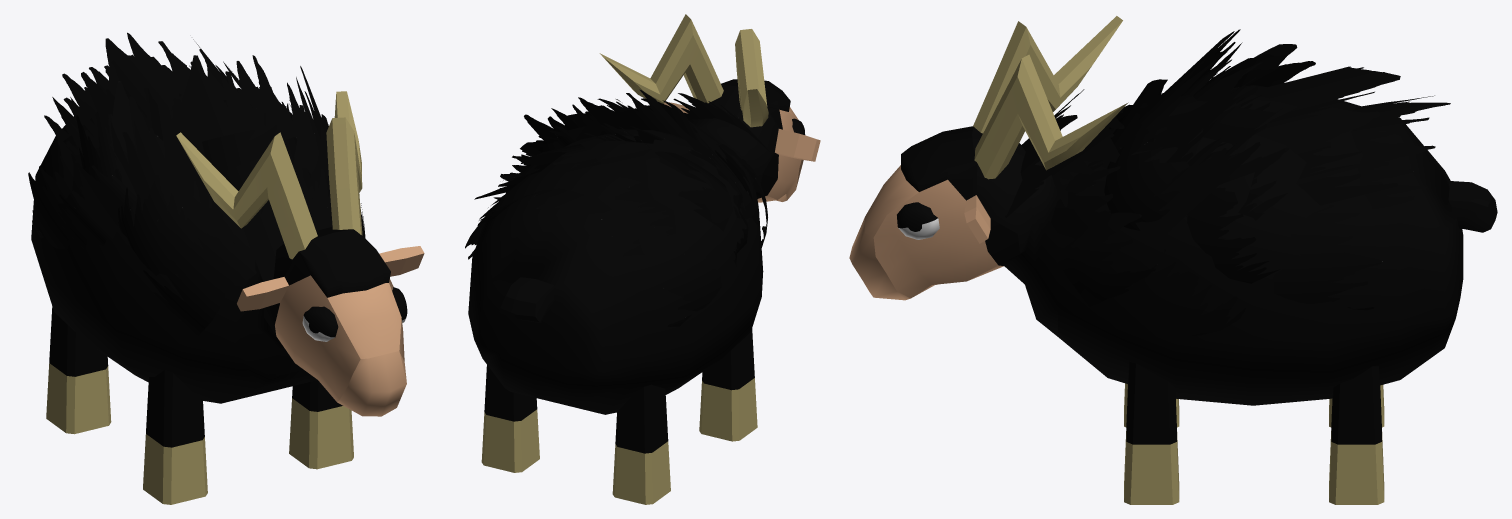
Rendered from Horned_Sheep_Enemy.fbx.
The picture shows the model from 3 angles, left to right: view 1: azimuth 30°, elevation 25°; view 2: azimuth 150°, elevation 25°; view 3: azimuth 270°, elevation 25°; orthographic projection. The views are drawn at different scales.
Parts seen in each view (by area): view 1: Horned_Sheep_Enemy; view 2: Horned_Sheep_Enemy; view 3: Horned_Sheep_Enemy.
Part boxes in pixels (x1,y1,x2,y2): Horned_Sheep_Enemy: (28, 32, 424, 504); Horned_Sheep_Enemy: (465, 14, 820, 504); Horned_Sheep_Enemy: (849, 16, 1497, 504).
Size of the model in its own units: 0.9921 by 1.36 by 1.9.
